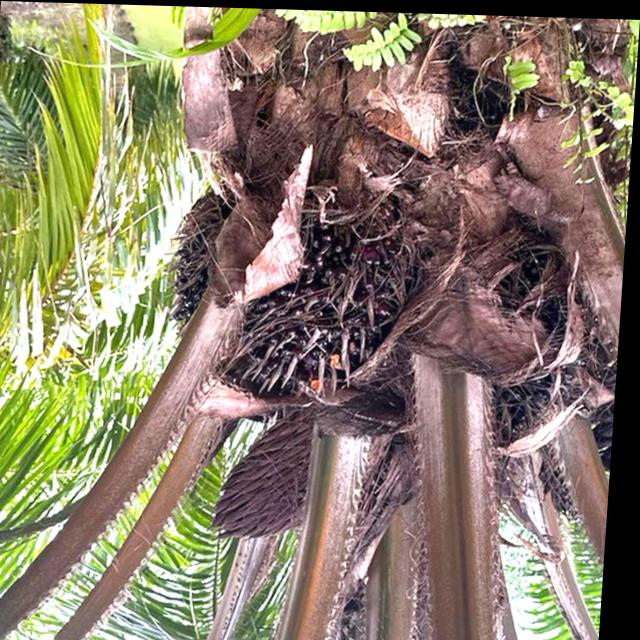ripe: (153, 181, 421, 414)
